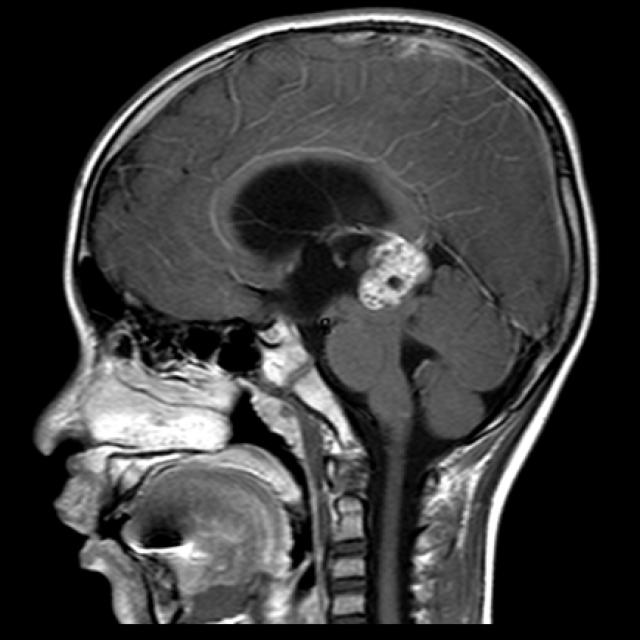Tumor: (356, 227, 442, 310)
